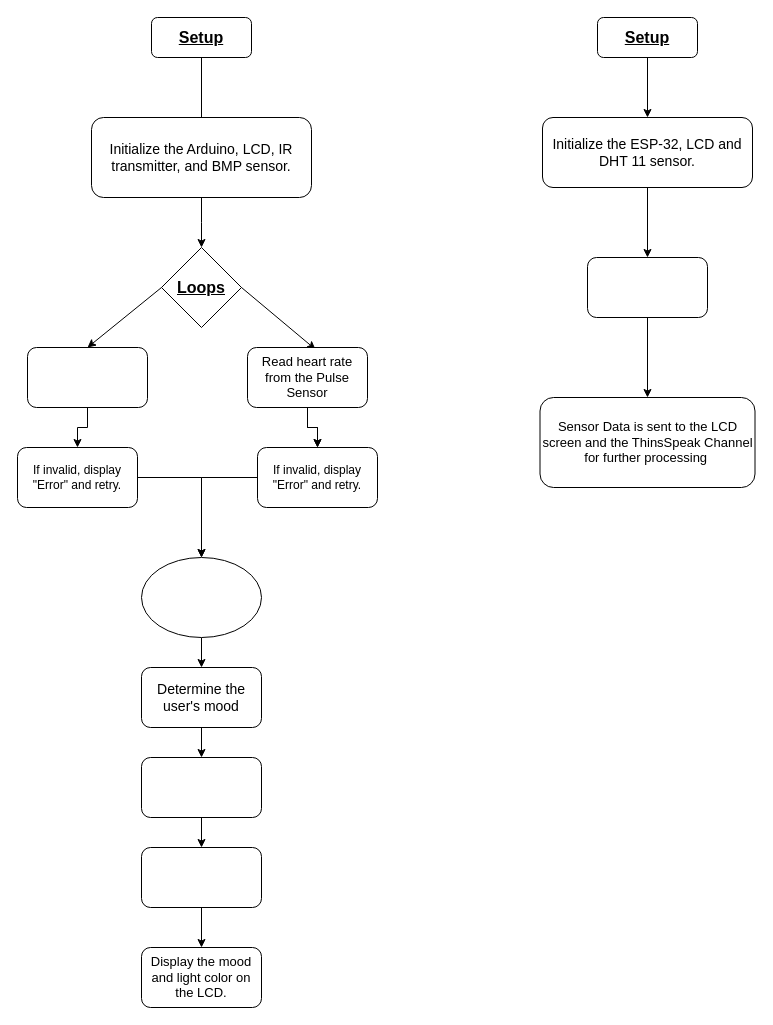
Image size: 773x1025. Some labels were removed from this diagram. Each missing label, with the centre of its shape:
Compare temperature and heart rate against thresholds.: the point at 201,597
ESP-32 is connected to wifi.: the point at 647,287
Light changes colour: the point at 201,877
Read temperature from ThingsSpeak.: the point at 87,377
Transmit the IR code based on the mood.: the point at 201,787
